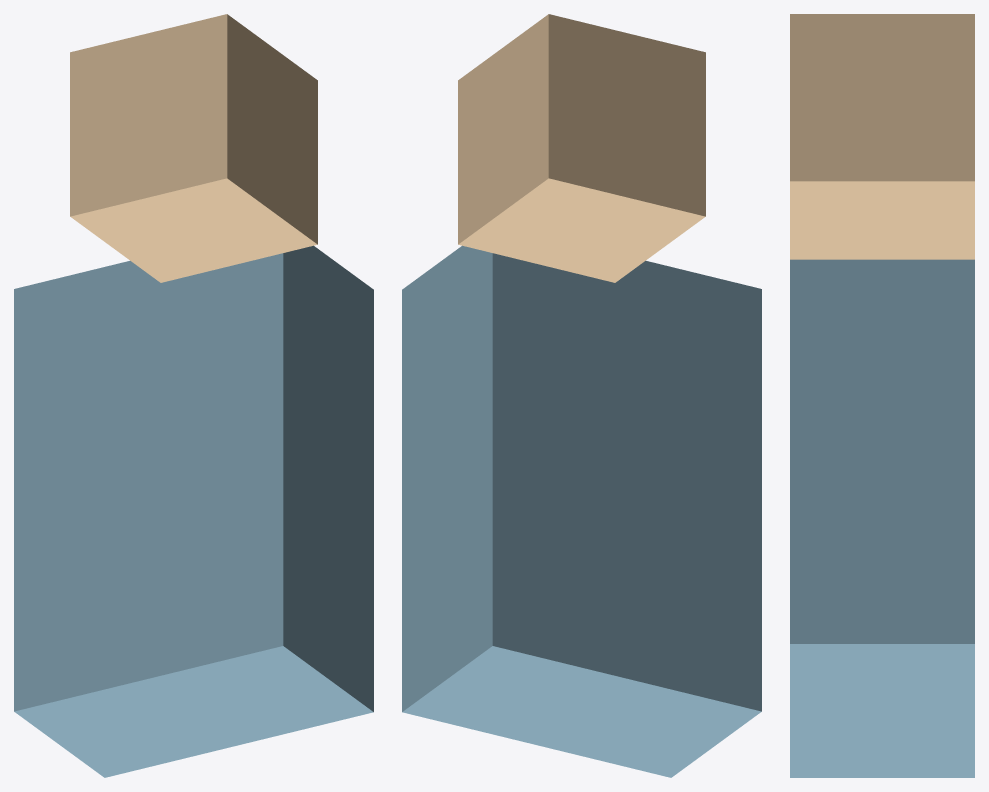
Rendered from character-humanoid.glb.
3 views of the same model, side by side, from view 1: azimuth 30°, elevation 25°; view 2: azimuth 150°, elevation 25°; view 3: azimuth 270°, elevation 25° (orthographic).
Size of the model in its own units: 0.6 by 1.37 by 0.35.
